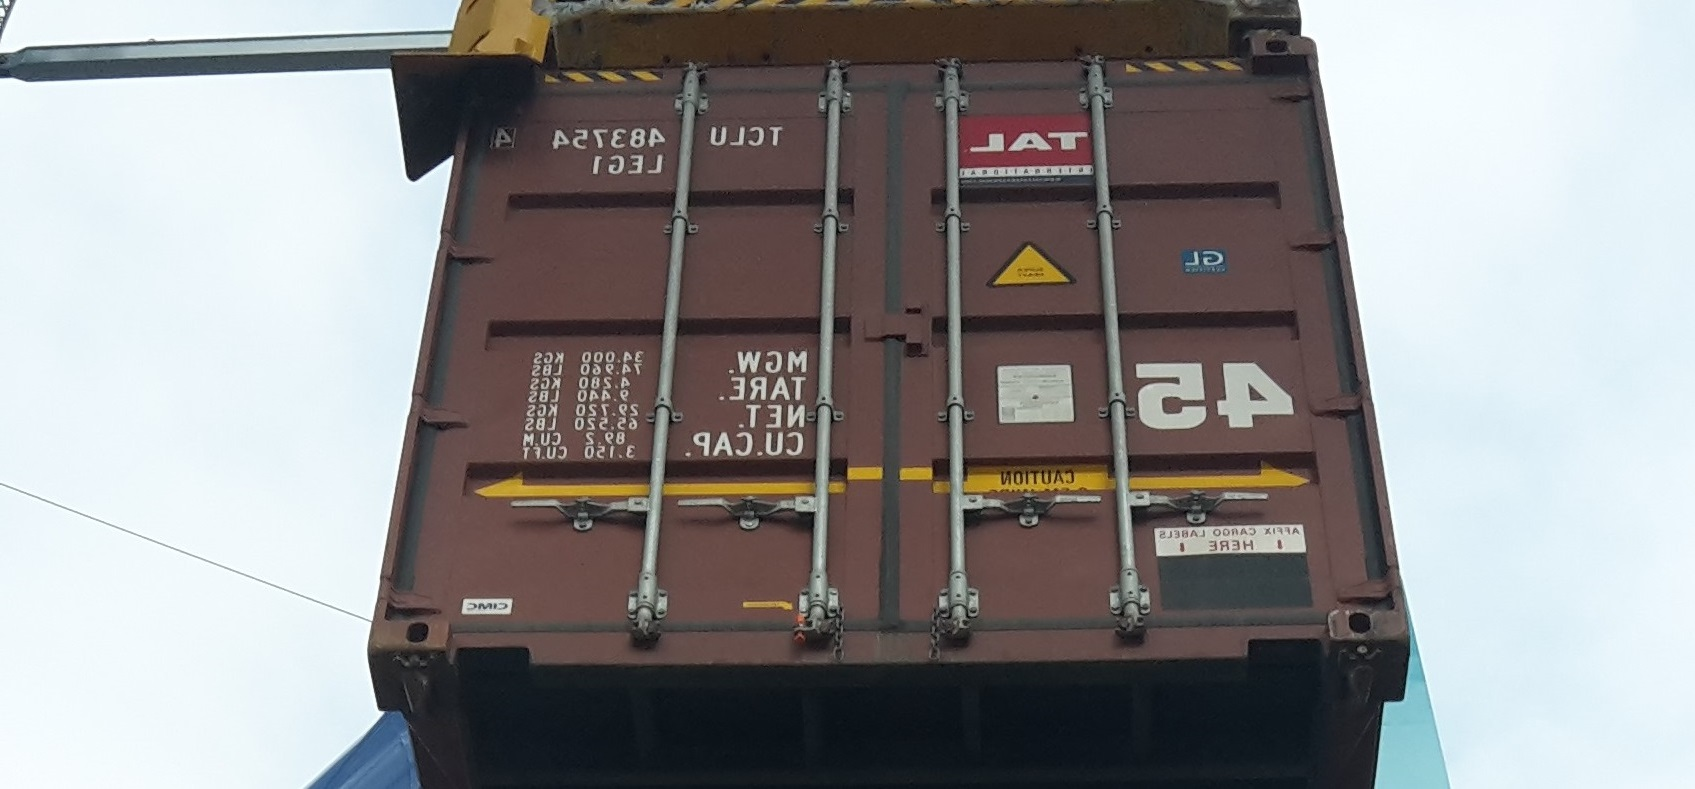container_door: (360, 34, 1396, 670)
